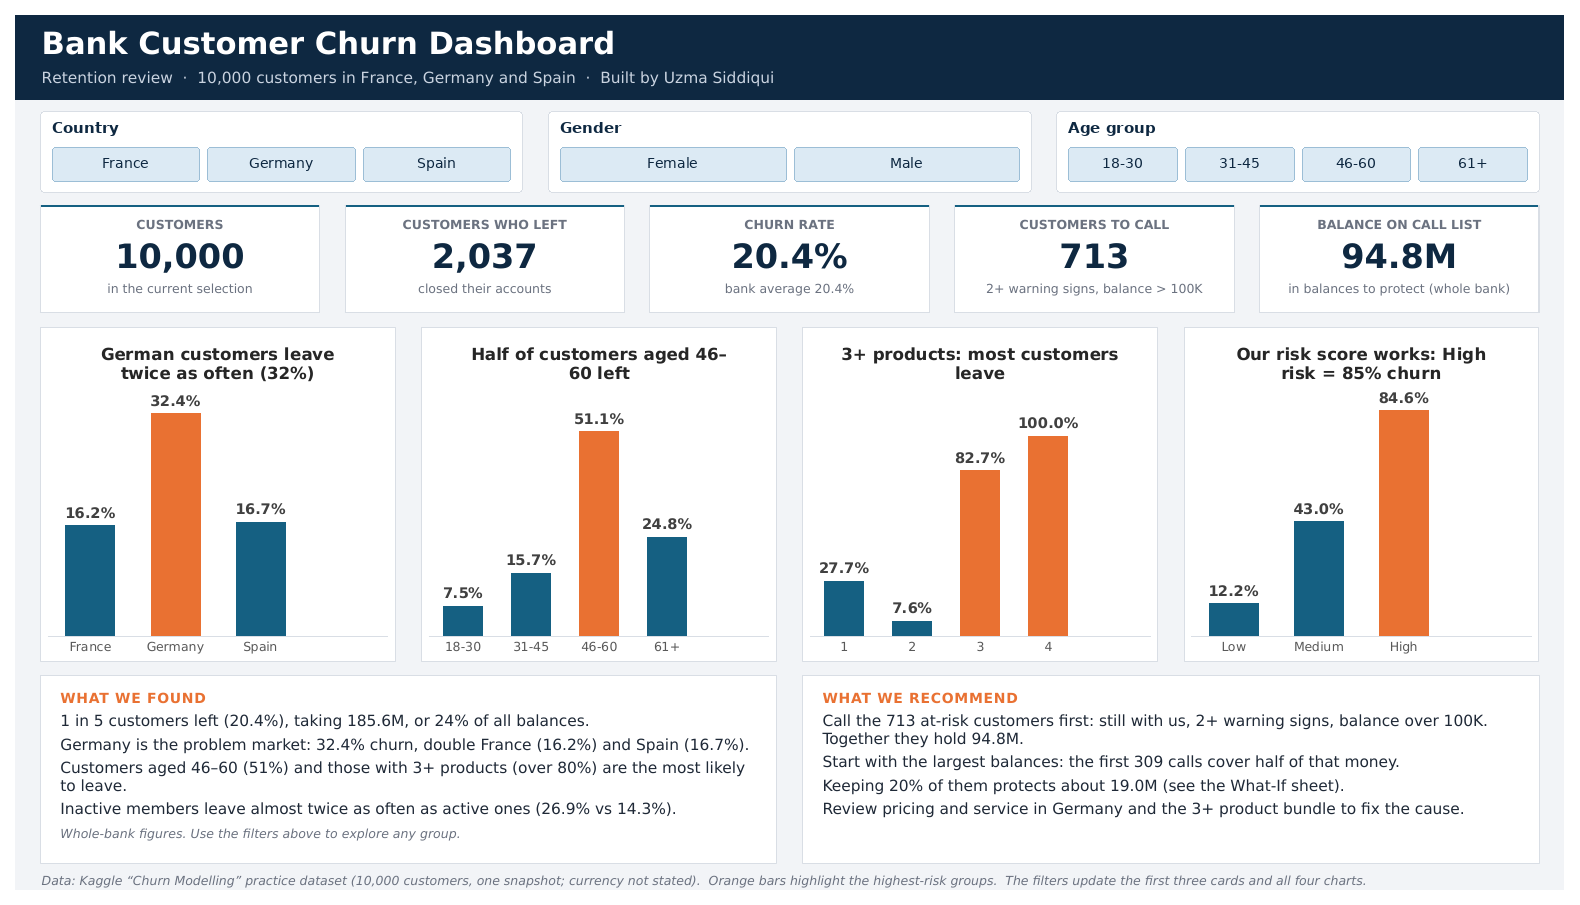

What the dashboard file says about the page in this screenshot:
{"tool":"powerbi","page":{"name":"Executive Summary","canvas":[1920,1080],"ordinal":0},"visuals":[{"type":"textbox","box":[0,0,1920,104],"z":0},{"type":"textbox","box":[24,1040,1872,34],"z":500},{"type":"cardVisual","fields":{"Data":["_Measures.Subtitle"]},"box":[24,128,720,96],"z":1000},{"type":"slicer","fields":{"Values":["Customers.Geography"]},"box":[768,128,440,96],"z":1000},{"type":"slicer","fields":{"Values":["Customers.Gender"]},"box":[1232,128,290,96],"z":1000},{"type":"slicer","fields":{"Values":["Customers.AgeGroup"]},"box":[1546,128,350,96],"z":1000},{"type":"cardVisual","fields":{"Data":["_Measures.Total Customers","_Measures.Customers Left","_Measures.Churn Rate","_Measures.Balance Lost"]},"box":[24,248,1872,150],"z":1000},{"type":"clusteredColumnChart","title":"German customers leave twice as often","fields":{"Category":["Customers.Geography"],"Y":["_Measures.Churn Rate"]},"box":[24,422,450,370],"z":2000},{"type":"clusteredColumnChart","title":"Half of customers aged 46–60 left","fields":{"Category":["Customers.AgeGroup"],"Y":["_Measures.Churn Rate"]},"box":[498,422,450,370],"z":2001},{"type":"clusteredColumnChart","title":"With 3+ products, most customers leave","fields":{"Category":["Customers.NumOfProducts"],"Y":["_Measures.Churn Rate"]},"box":[972,422,450,370],"z":2002},{"type":"clusteredColumnChart","title":"Risk score works: High risk = 85% churn","fields":{"Category":["Customers.RiskLevel"],"Y":["_Measures.Churn Rate"]},"box":[1446,422,450,370],"z":2003},{"type":"textbox","box":[24,816,924,208],"z":3000},{"type":"textbox","box":[972,816,924,208],"z":3001},{"type":"pageNavigator","box":[1236,30.8,660.5,59.7],"z":20000}]}

Visuals, with their boxes in screenshot pixels (x1, y1, x2, y2), scaled from the page's 1920x1080 canvas onto the 1580x905 screenshot:
textbox: x1=0, y1=0, x2=1579, y2=87
textbox: x1=20, y1=871, x2=1560, y2=900
cardVisual - _Measures.Subtitle: x1=20, y1=107, x2=612, y2=188
slicer - Customers.Geography: x1=632, y1=107, x2=994, y2=188
slicer - Customers.Gender: x1=1014, y1=107, x2=1252, y2=188
slicer - Customers.AgeGroup: x1=1272, y1=107, x2=1560, y2=188
cardVisual - _Measures.Total Customers x _Measures.Customers Left: x1=20, y1=208, x2=1560, y2=334
"German customers leave twice as often" clusteredColumnChart: x1=20, y1=354, x2=390, y2=664
"Half of customers aged 46–60 left" clusteredColumnChart: x1=410, y1=354, x2=780, y2=664
"With 3+ products, most customers leave" clusteredColumnChart: x1=800, y1=354, x2=1170, y2=664
"Risk score works: High risk = 85% churn" clusteredColumnChart: x1=1190, y1=354, x2=1560, y2=664
textbox: x1=20, y1=684, x2=780, y2=858
textbox: x1=800, y1=684, x2=1560, y2=858
pageNavigator: x1=1017, y1=26, x2=1561, y2=76
